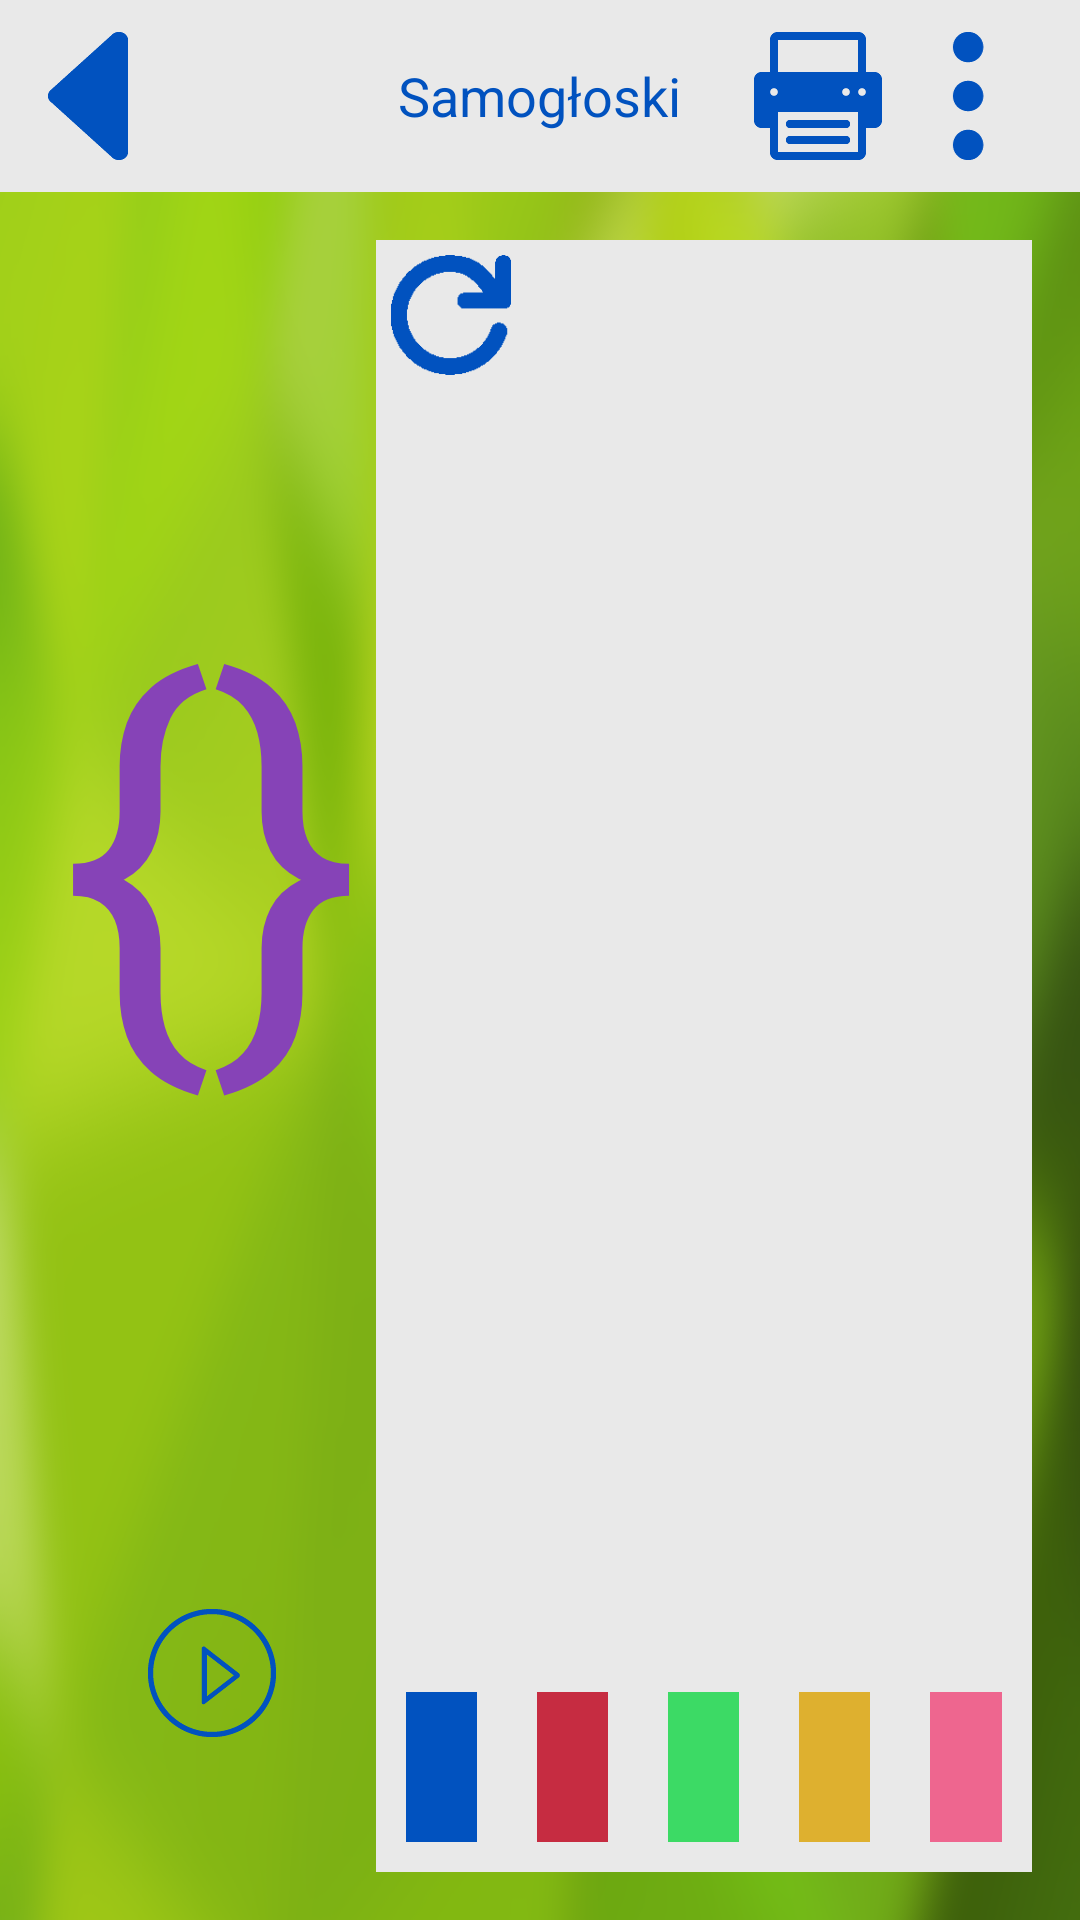

Locate icon controls on the screen. Image size 1080px x 1920px, boxes as bbox=[x1, y1, x2, y2].
play: bbox=[148, 1609, 276, 1737]
Przycisk powrotu: bbox=[48, 32, 128, 160]
Przycisk wydruku: bbox=[754, 32, 882, 160]
refresh: bbox=[391, 255, 511, 375]
